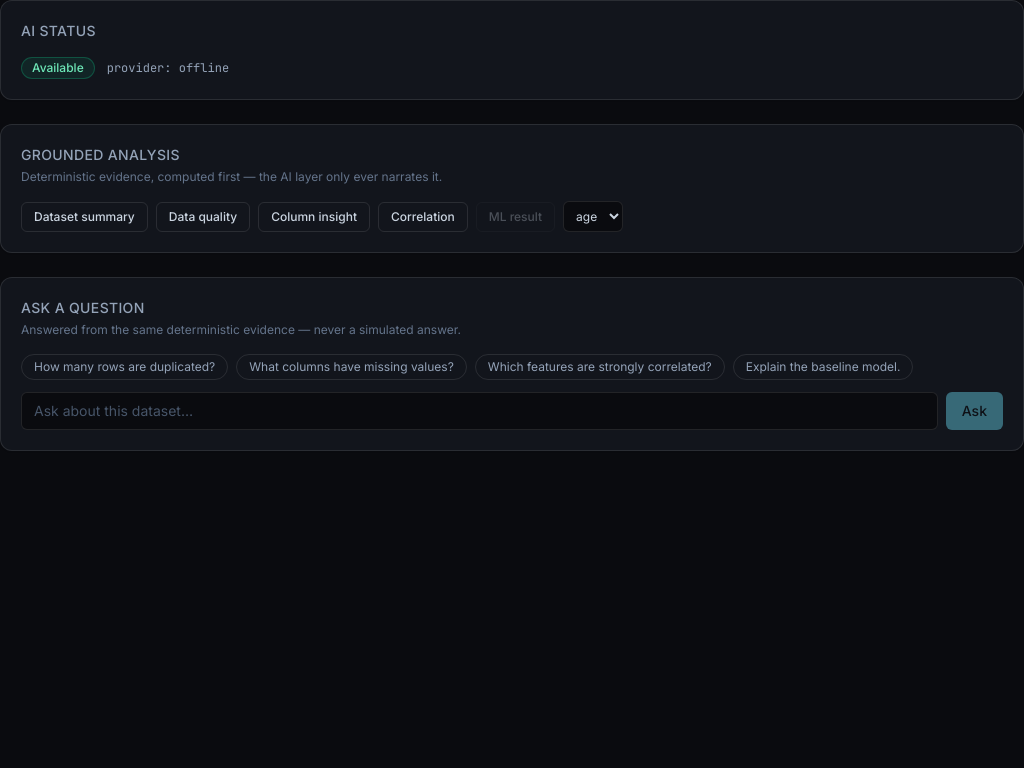
Test case: AiPage › shows the AI as available and renders a grounded dataset-summary explanation on request
Expected: the text "Available" is shown, x1=21 y1=57 x2=95 y2=79
Click the button "Dataset summary" at (84, 216), box x1=21 y1=202 x2=148 y2=232
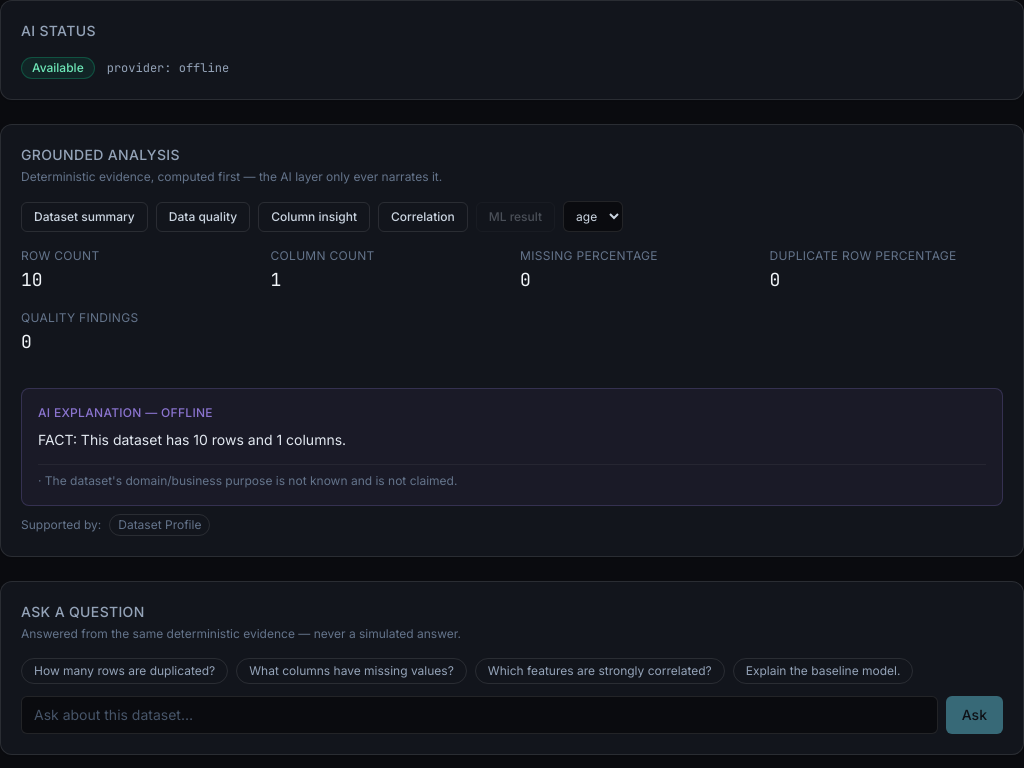
Expected: the text "FACT: This dataset has 10 rows and 1 columns." is shown, x1=38 y1=431 x2=346 y2=448
Expected: the text "AI explanation — offline" is shown, x1=38 y1=405 x2=213 y2=420
Expected: the text "Dataset Profile" is shown, x1=109 y1=514 x2=210 y2=536
